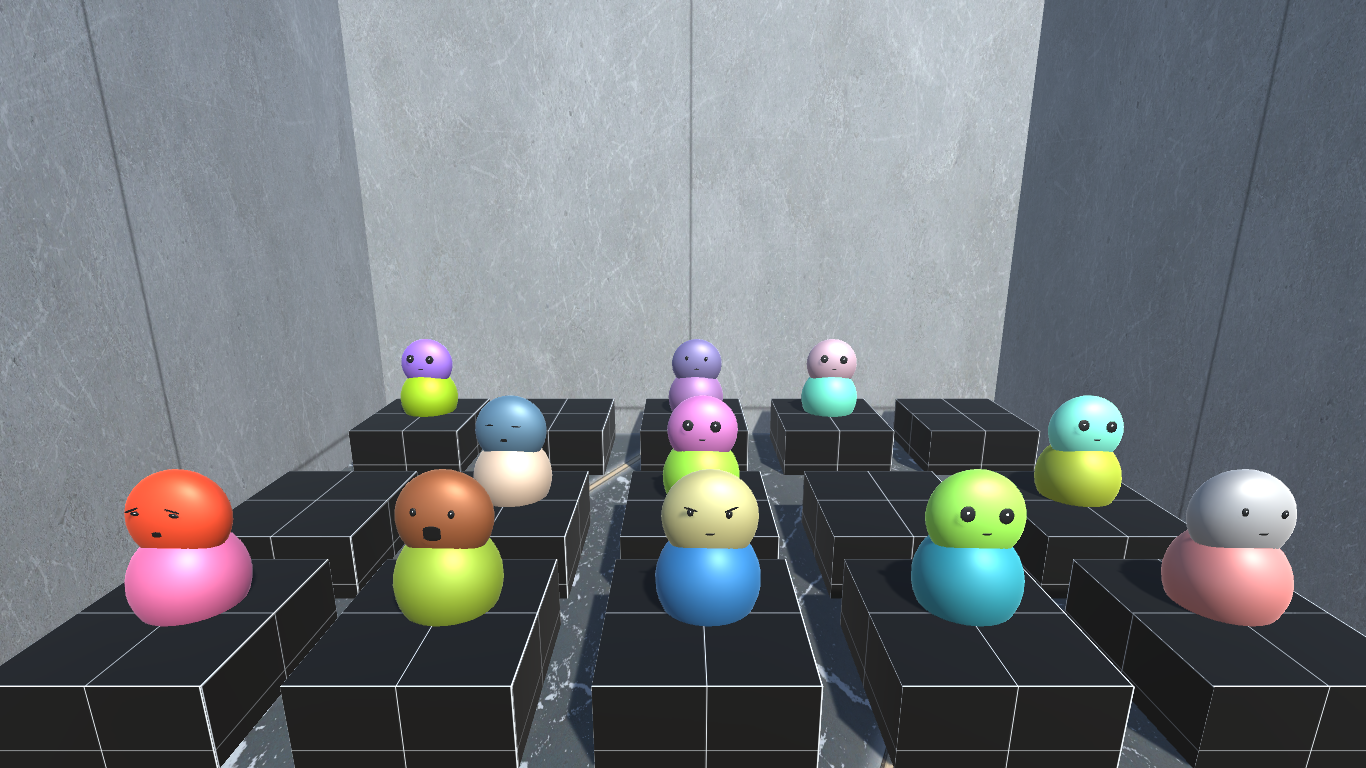blob_atento: (910, 465, 1026, 630), (1027, 391, 1129, 518), (656, 398, 745, 495), (796, 341, 866, 424), (396, 338, 460, 418)
blob_dormindo: (474, 398, 561, 506)
blob_entediado: (119, 470, 254, 631)
blob_normal: (1156, 467, 1300, 626), (667, 340, 723, 406)
blob_raiva: (649, 468, 769, 628)
blob_surpreso: (390, 468, 509, 629)
